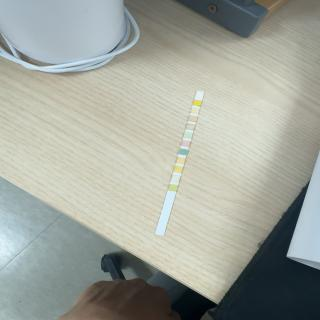mark: (168, 184, 177, 191), (188, 115, 196, 122), (177, 157, 184, 164), (172, 176, 180, 182), (174, 166, 182, 172), (179, 149, 187, 155), (182, 140, 190, 146), (191, 108, 199, 114), (193, 100, 201, 106), (185, 132, 192, 138), (187, 124, 194, 130), (196, 92, 203, 98)
